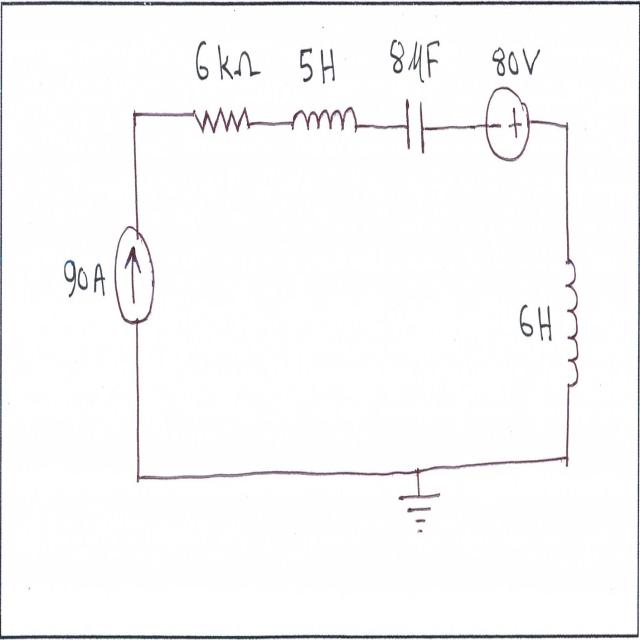capacitor: (403, 95, 428, 154)
current_source: (110, 205, 160, 342)
ground: (394, 484, 445, 540)
inductor: (282, 101, 361, 149), (562, 249, 584, 405)
resistor: (188, 101, 255, 150)
voltage_source: (482, 78, 536, 170)
